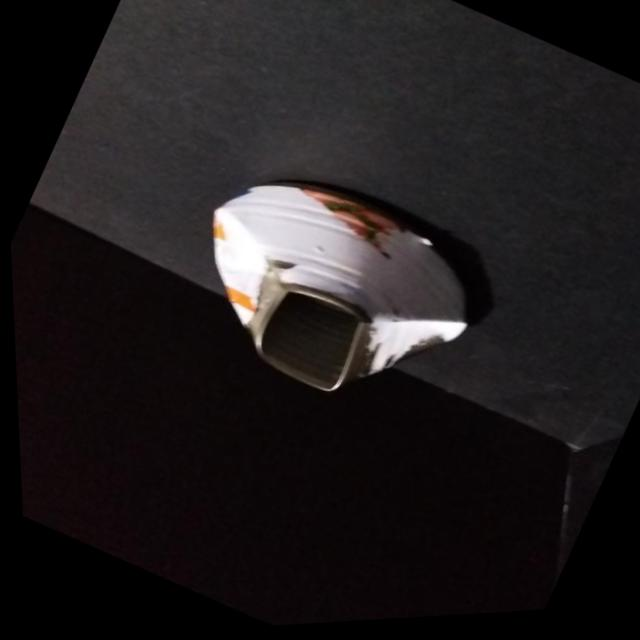metal: (149, 125, 513, 458)
